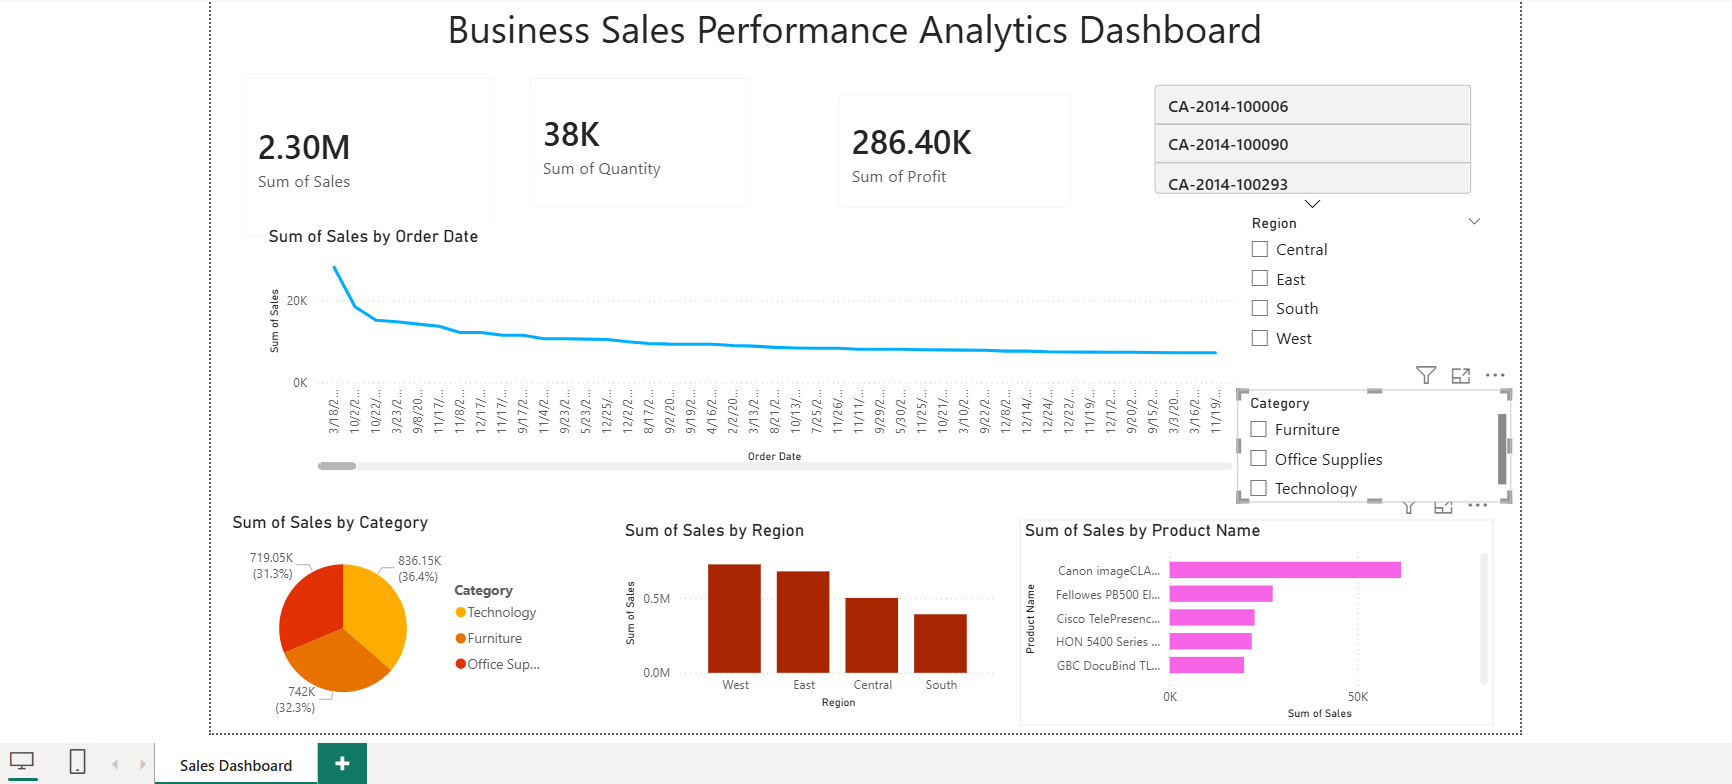

The page's visual inventory and layout, read from the dashboard file:
{"tool":"powerbi","page":{"name":"Sales Dashboard","canvas":[1280,720],"ordinal":0},"visuals":[{"type":"cardVisual","fields":{"Data":["Sum(Sample - Superstore.Sales)"]},"box":[15.7,61.4,278.6,190],"z":0},{"type":"cardVisual","fields":{"Data":["Sum(Sample - Superstore.Profit)"]},"box":[596.2,78.8,262.5,145],"z":1000},{"type":"cardVisual","fields":{"Data":["Sum(Sample - Superstore.Quantity)"]},"box":[294.3,62.9,250,161.4],"z":2000},{"type":"cardVisual","fields":{"Rows":["Sample - Superstore.Order ID"],"Data":["CountNonNull(Sample - Superstore.Order ID)"]},"box":[918.3,61.1,319.2,156.5],"z":3000},{"type":"lineChart","fields":{"Category":["Sample - Superstore.Order Date"],"Y":["Sum(Sample - Superstore.Sales)"]},"box":[51.4,224.3,952.9,244.3],"z":4000},{"type":"pieChart","fields":{"Category":["Sample - Superstore.Category"],"Y":["Sum(Sample - Superstore.Sales)"]},"box":[15.7,504.3,320,208.6],"z":5000},{"type":"barChart","fields":{"Category":["Sample - Superstore.Product Name"],"Y":["Sum(Sample - Superstore.Sales)"]},"box":[791.2,511.2,463.8,201.2],"z":6000},{"type":"columnChart","fields":{"Category":["Sample - Superstore.Region"],"Y":["Sum(Sample - Superstore.Sales)"]},"box":[400,511.2,373.8,190],"z":7000},{"type":"slicer","fields":{"Values":["Sample - Superstore.Region"]},"box":[1005,207.5,249.7,168.9],"z":8000},{"type":"slicer","fields":{"Values":["Sample - Superstore.Category"]},"box":[1003.8,383.6,267.8,109.8],"z":9000},{"type":"textbox","box":[51.4,0,1157.1,61.4],"z":10000}]}

Visuals, with their boxes on the page's 1280x720 design canvas (x1, y1, x2, y2). These are canvas units, not pixel positions in the 1732x784 screenshot, which may show the page scaled, cropped or inside an application window:
cardVisual - Sum(Sample - Superstore.Sales): box=[16, 61, 294, 251]
cardVisual - Sum(Sample - Superstore.Profit): box=[596, 79, 859, 224]
cardVisual - Sum(Sample - Superstore.Quantity): box=[294, 63, 544, 224]
cardVisual - Sample - Superstore.Order ID x CountNonNull(Sample - Superstore.Order ID): box=[918, 61, 1238, 218]
lineChart - Sample - Superstore.Order Date x Sum(Sample - Superstore.Sales): box=[51, 224, 1004, 469]
pieChart - Sample - Superstore.Category x Sum(Sample - Superstore.Sales): box=[16, 504, 336, 713]
barChart - Sample - Superstore.Product Name x Sum(Sample - Superstore.Sales): box=[791, 511, 1255, 712]
columnChart - Sample - Superstore.Region x Sum(Sample - Superstore.Sales): box=[400, 511, 774, 701]
slicer - Sample - Superstore.Region: box=[1005, 208, 1255, 376]
slicer - Sample - Superstore.Category: box=[1004, 384, 1272, 493]
textbox: box=[51, 0, 1208, 61]
